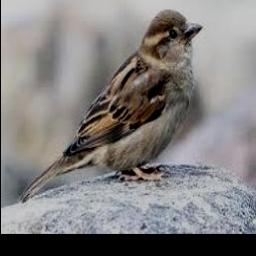Sparrow: (19, 9, 201, 202)
